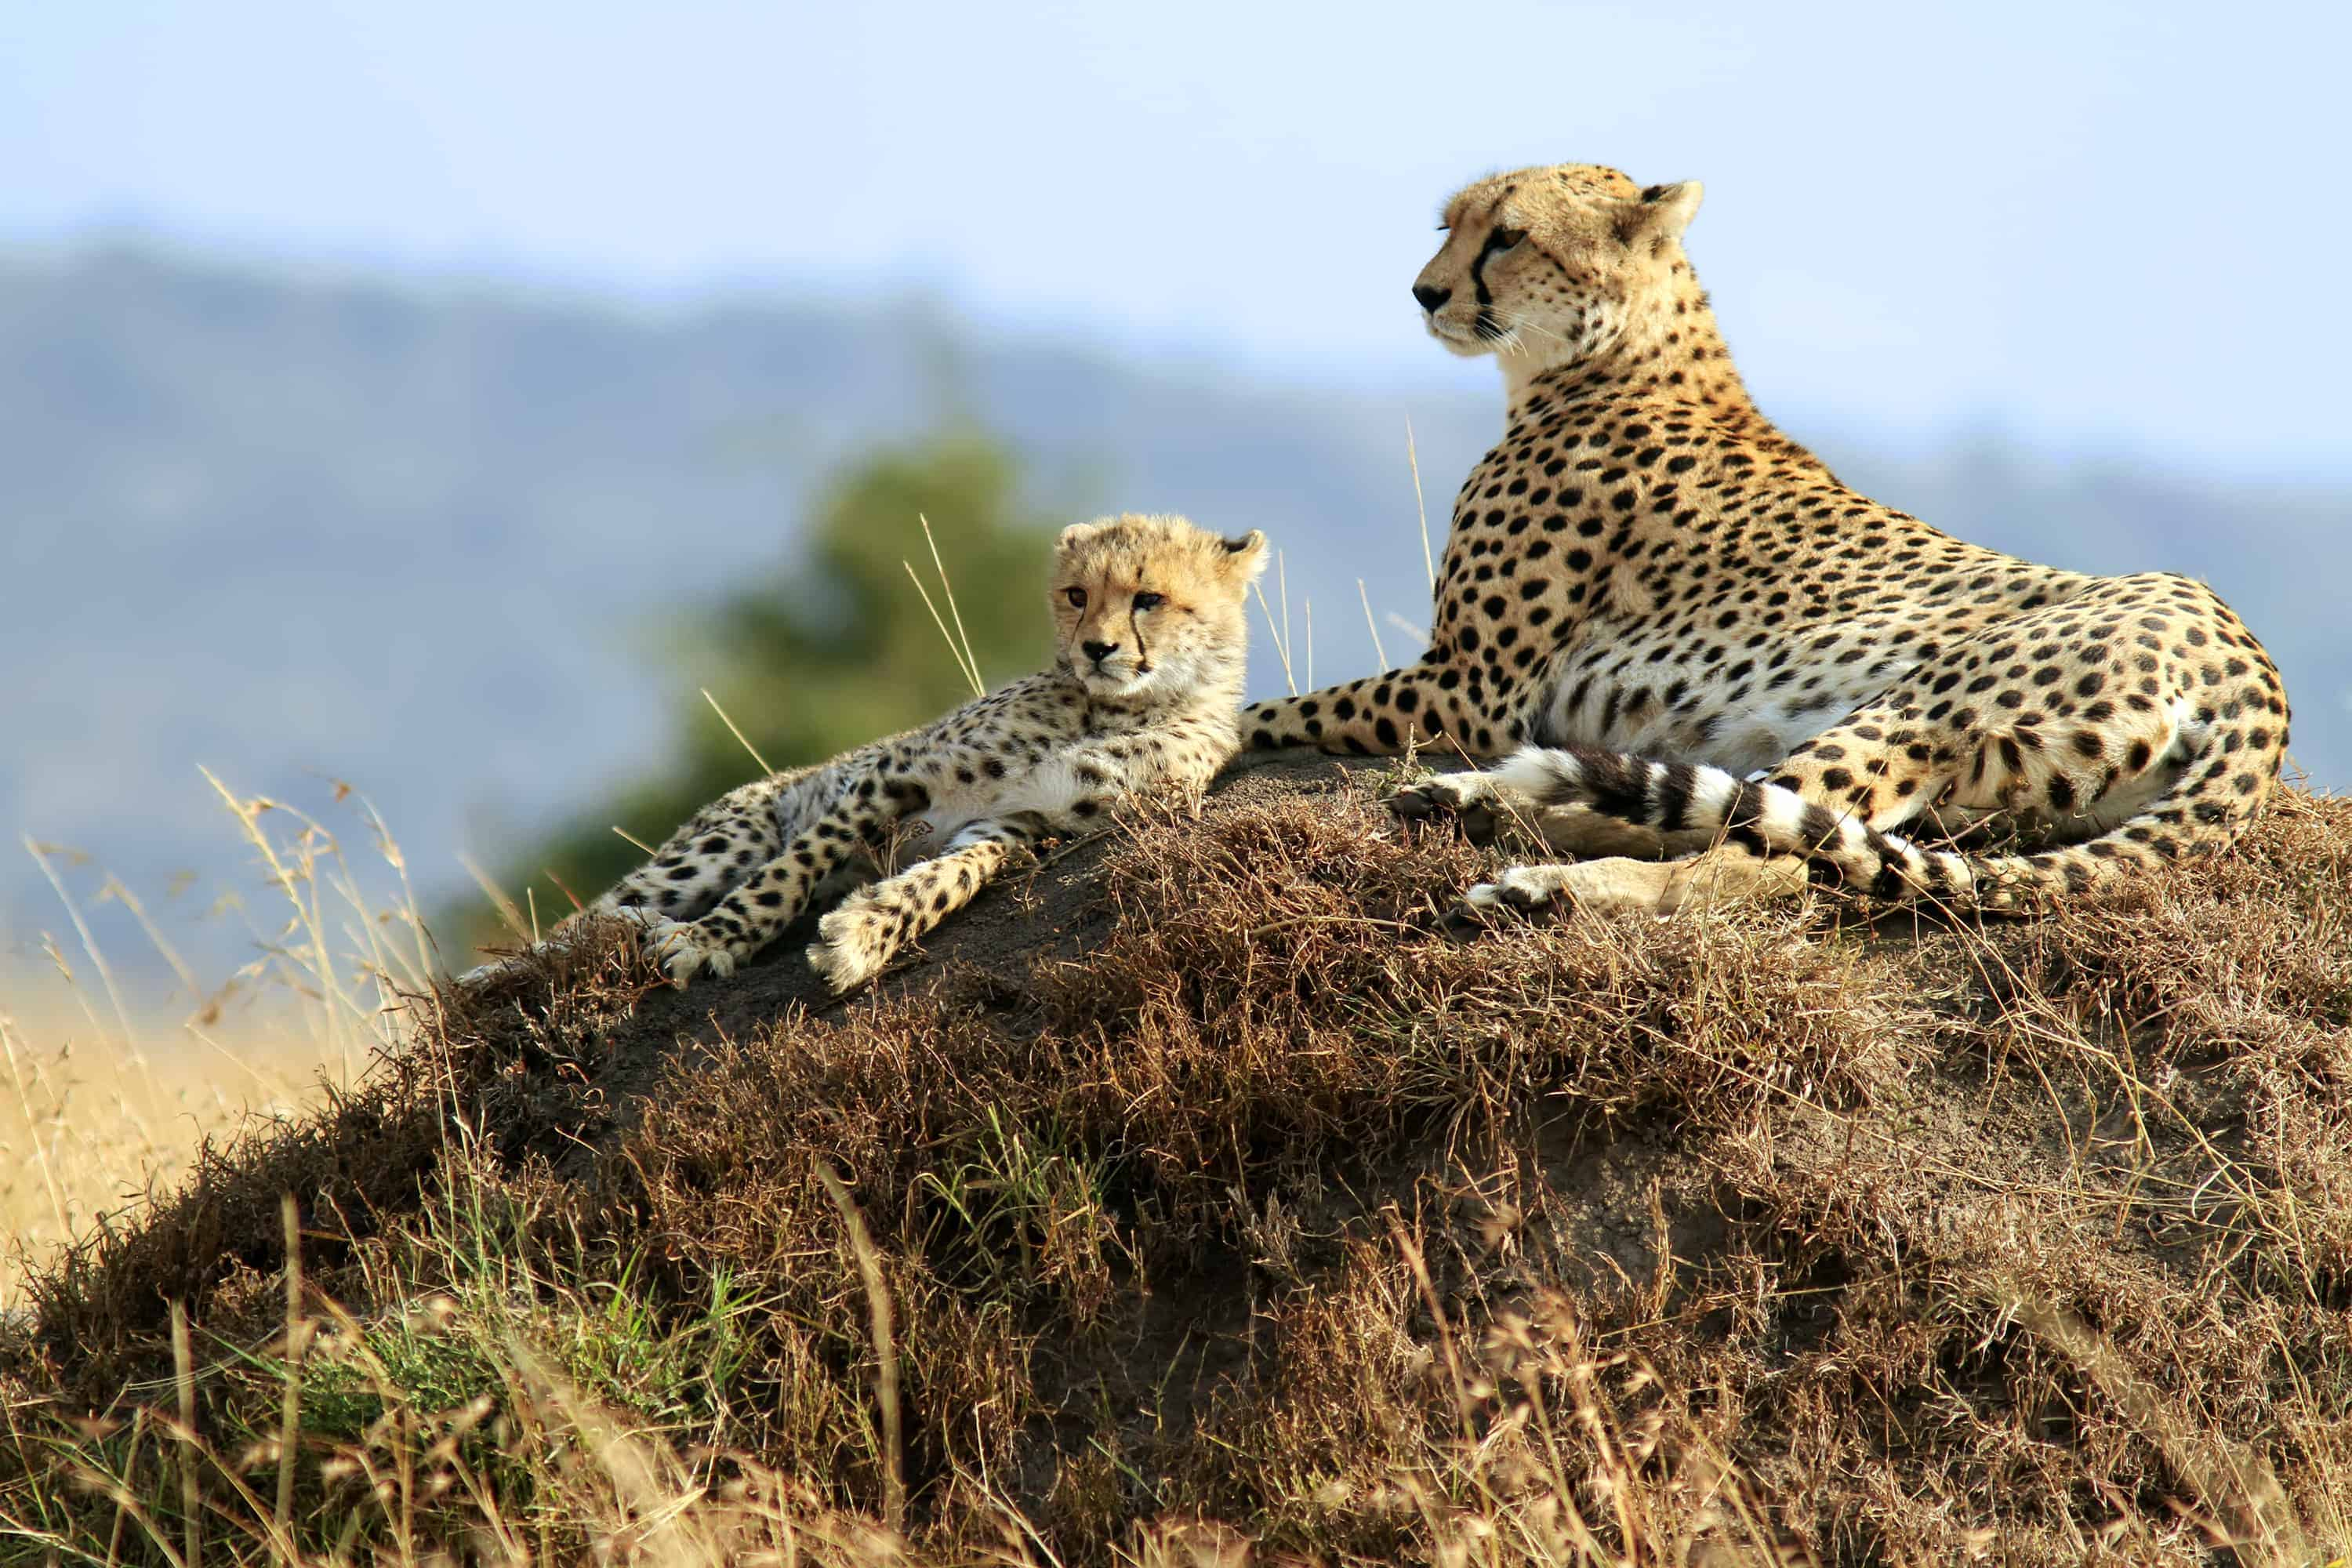cheetah: (1356, 114, 1766, 438)
